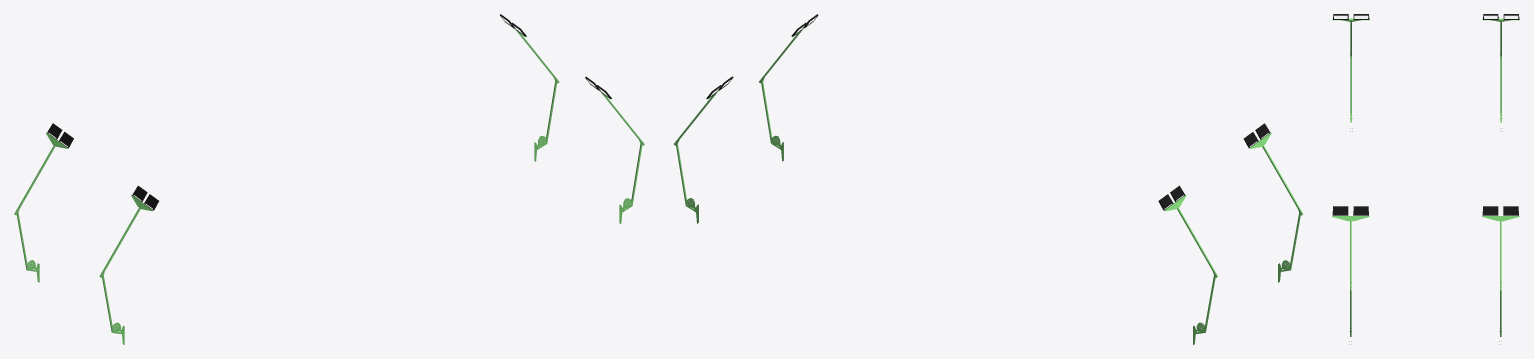
The model's file is solo_7.glb.
The picture shows the model from 3 angles, left to right: view 1: azimuth 30°, elevation 25°; view 2: azimuth 150°, elevation 25°; view 3: azimuth 270°, elevation 25°; orthographic projection. The views are drawn at different scales.
Visible parts, largest first — view 1: 7 вариант; view 2: 7 вариант; view 3: 7 вариант.
Boxes of the visible parts, x1,y1,x2,y2 form: 7 вариант: [14, 14, 644, 344]; 7 вариант: [673, 14, 1303, 344]; 7 вариант: [1332, 14, 1519, 344].
Bounding box in the file's own units: 22.07 × 5.64 × 7.49.
